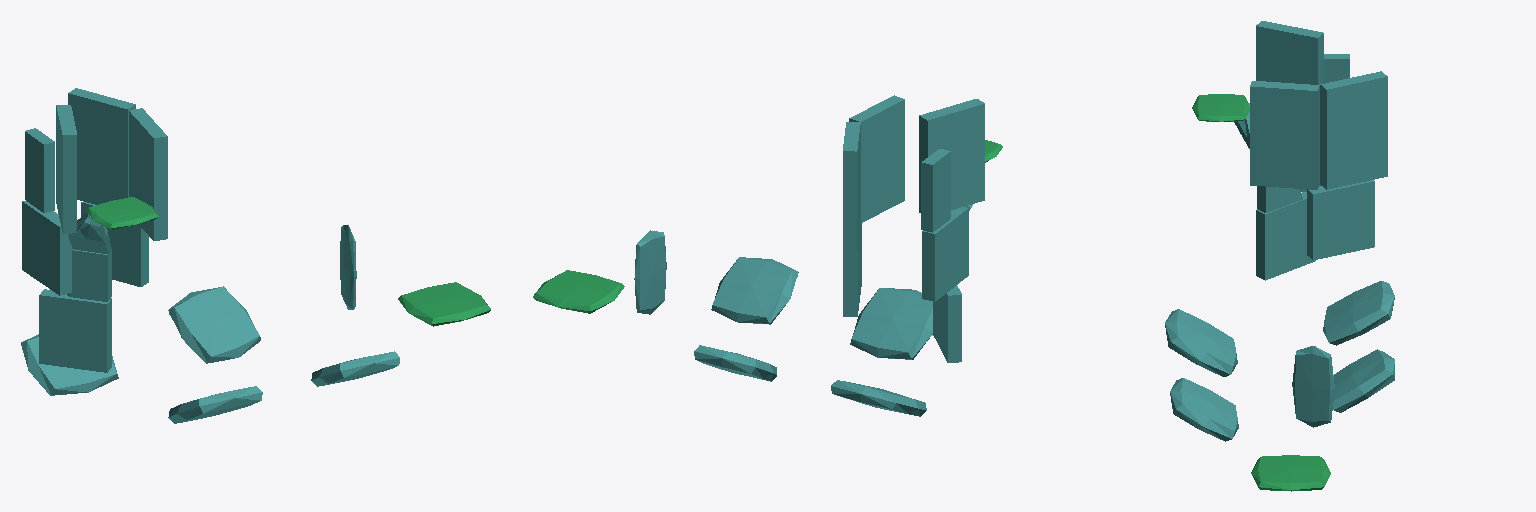
The robot description file, URDF, robot "object":
<?xml version="1.0"?>
<robot name="object">
  <link name="base_link"> <!-- required name-->
    <inertial>
      <origin xyz="0 0 0" /> 
      <mass value="1.0" />
      <inertia  ixx="1.0" ixy="0.0"  ixz="0.0"  iyy="1.0"  iyz="0.0"  izz="1.0" />
    </inertial>
    <visual>
      <origin xyz="0 0 0"/>
      <geometry>
        <mesh filename="package://animals_description/meshes/scene_jump10.dae"/>
      </geometry>
    </visual>
    <!--<collision>
      <origin xyz="0 0 0"/>
      <geometry>
        <mesh filename="package://animals_description/meshes/scene_jump9.dae"/>
      </geometry>
    </collision>--> <!-- avoid duplicating computations, and sj9.dae is shitty -->
    <collision>
      <origin xyz="0 0 0"/>
      <geometry>
        <mesh filename="package://animals_description/meshes/scene_jump10.stl"/>
      </geometry>
    </collision>
  </link>

  <!--<joint name="j_decor_one" type="fixed">
    <parent link="base_link"/>
    <child link="l_decor_one"/>
    <origin rpy="0 0 0" xyz="0 0 0"/>
  </joint>
        
  <link name="l_decor_one">
    <visual>
      <origin xyz="0 0 0"/>
      <geometry>
        <mesh filename="package://animals_description/meshes/scene_jump9.stl"/>
      </geometry>
    </visual>
    <collision>
      <origin xyz="0 0 0"/>
      <geometry>
        <mesh filename="package://animals_description/meshes/scene_jump9.stl"/>
      </geometry>
    </collision>
  </link>-->

</robot>

--- Facts derived from the render (not from the file) ---
The picture shows the robot from 3 angles, left to right: view 1: azimuth 30°, elevation 25°; view 2: azimuth 150°, elevation 25°; view 3: azimuth 270°, elevation 25°; orthographic projection.
Robot: object — 1 links, 0 joints (none); root link base_link; default pose: all joints at 0.
Visible links, largest first — view 1: base_link; view 2: base_link; view 3: base_link.
Boxes of the visible links, x1,y1,x2,y2 form: base_link: (21, 88, 490, 423); base_link: (533, 95, 1002, 416); base_link: (1165, 21, 1394, 491).
Bounding box of the posed robot: 13.2 × 6.32 × 8.71 m (x, y, z).
1 mesh visuals loaded from 1 distinct referenced files (1 Collada DAE).
